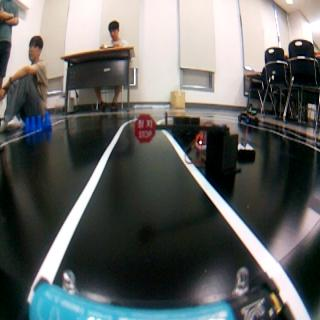stop: (134, 114, 154, 142)
